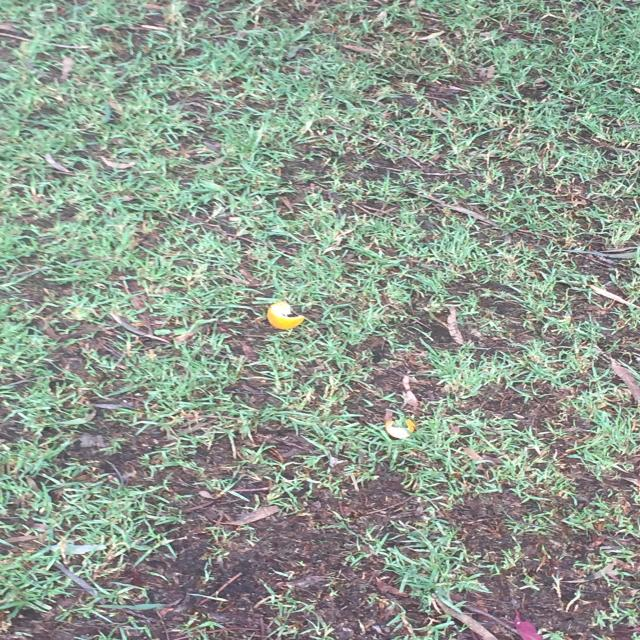litter: (259, 309, 308, 332)
